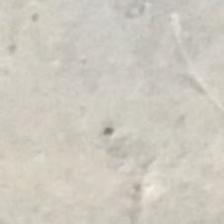Non_Crack: (16, 1, 211, 224)
